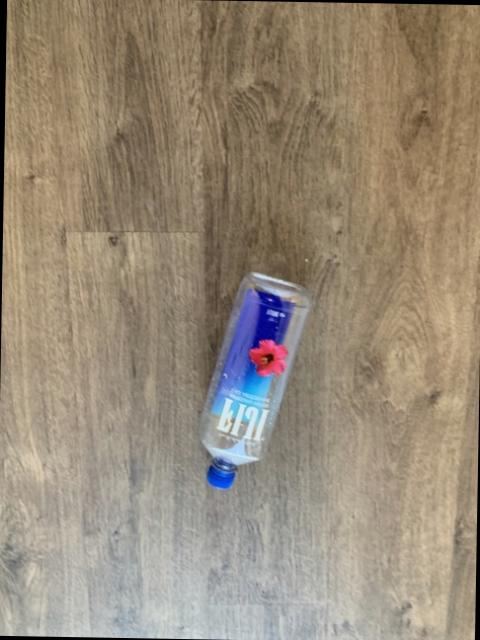plastic: (197, 274, 307, 490)
